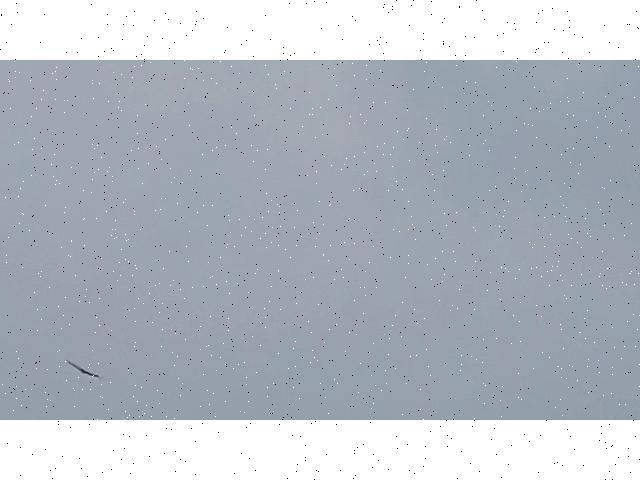Anti-Drone: (64, 356, 104, 380)
